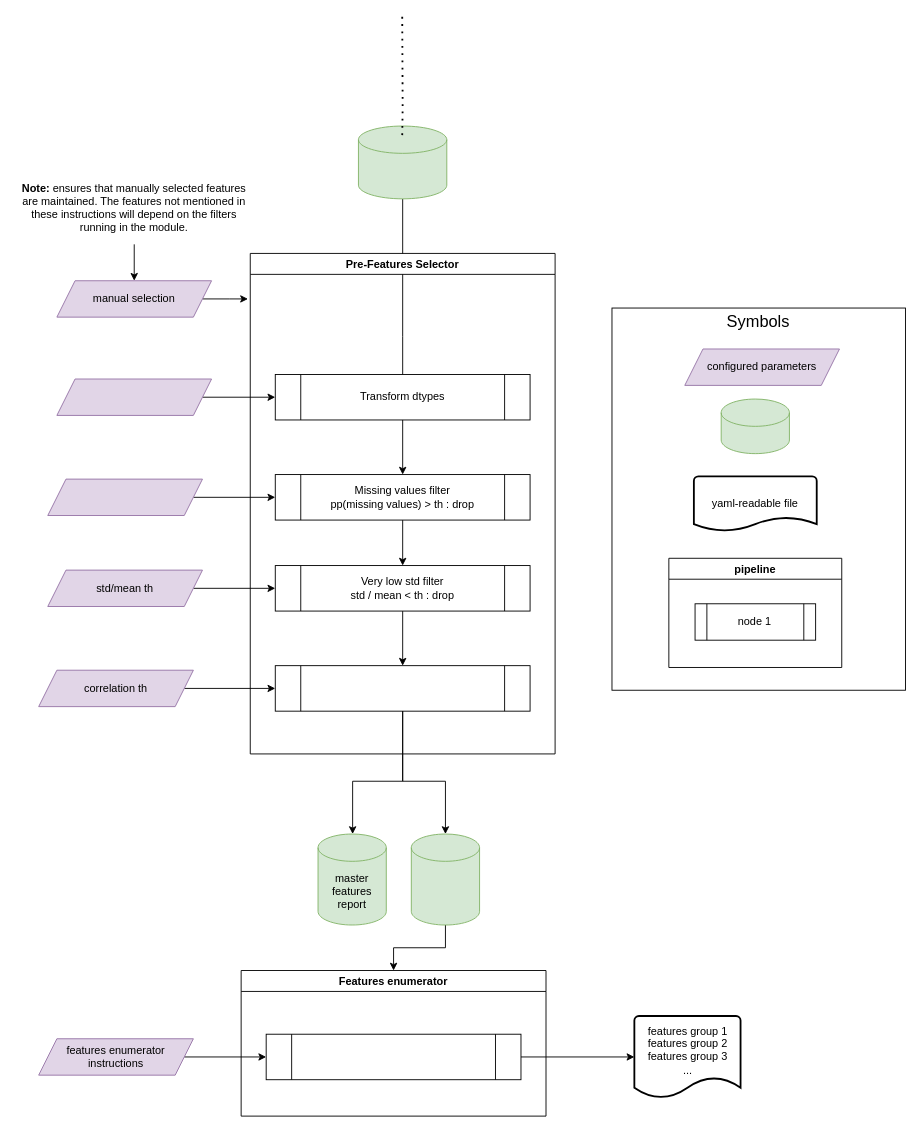
Some shapes in this 921 by 1132 pixel diagram are drawn without their labels. Here are the shapes that lost their labels. From the top down, the centre of each, then its label:
At (402,162): "master table".
At (134,396): "dtypes instructions".
At (754,426): "table".
At (124,497): "% missing values th".
At (402,688): "Very High Correlations Filter | corr | > th : drop".
At (445,879): "columns filtered master table".
At (393,1056): "Defined dtypes of variables".
